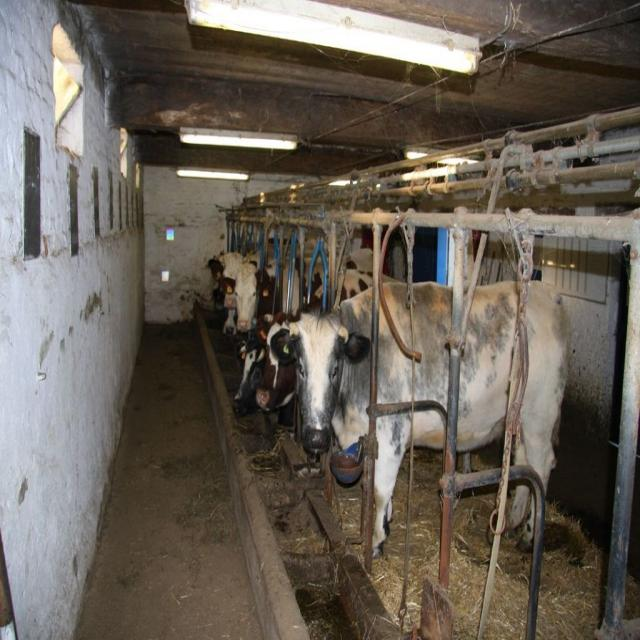Cattle: (208, 237, 571, 560)
